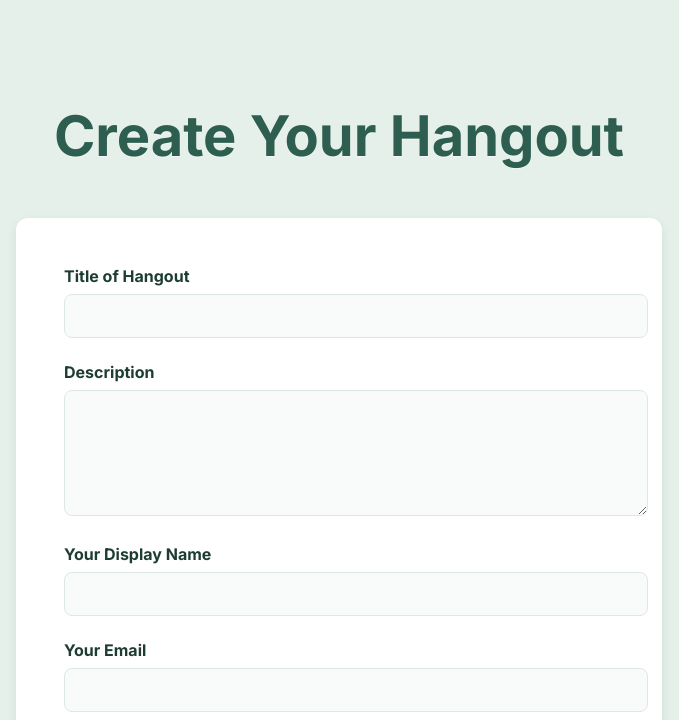
Test: CreateEvent › Display Name validation › shows error when display name is too short
Step 1. Type "A" into the field labelled "Your Display Name" → {"x": 356, "y": 594}, box [64,572,648,616]
(page scrolled)
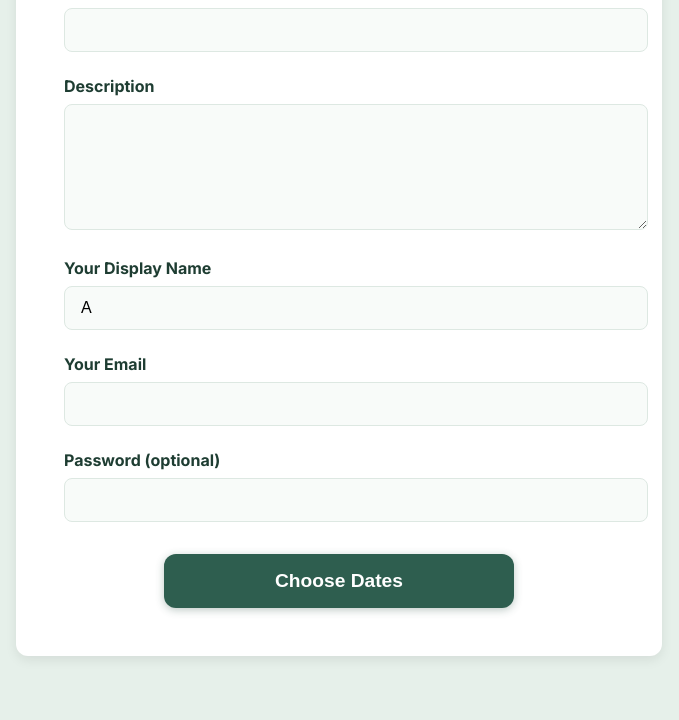
Step 2. Click the button "Choose Dates" → {"x": 339, "y": 580}, box [164,554,514,608]
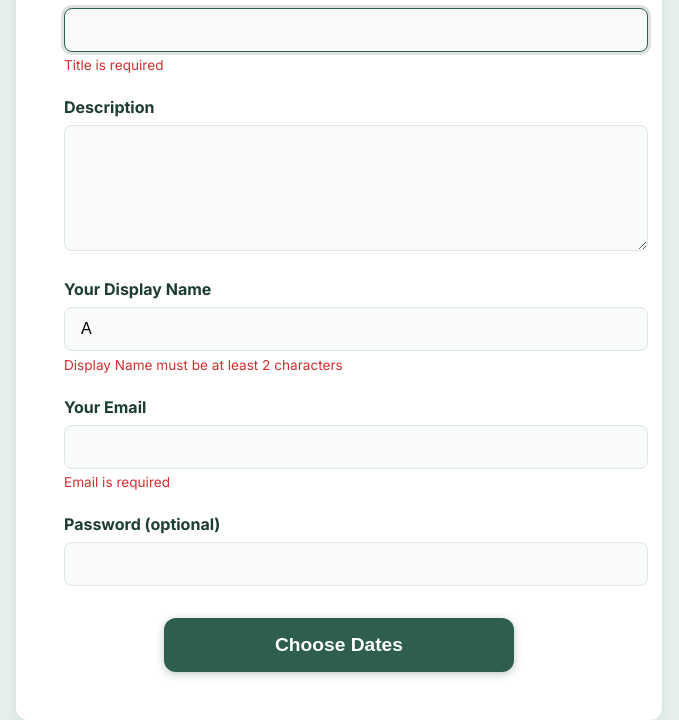
Check: the text "Display Name must be at least 2 characters" is shown, box [64,357,343,373]
